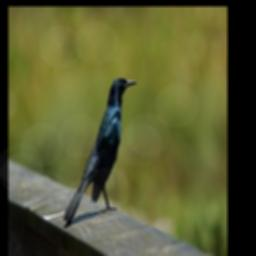Crow: (61, 75, 136, 227)
